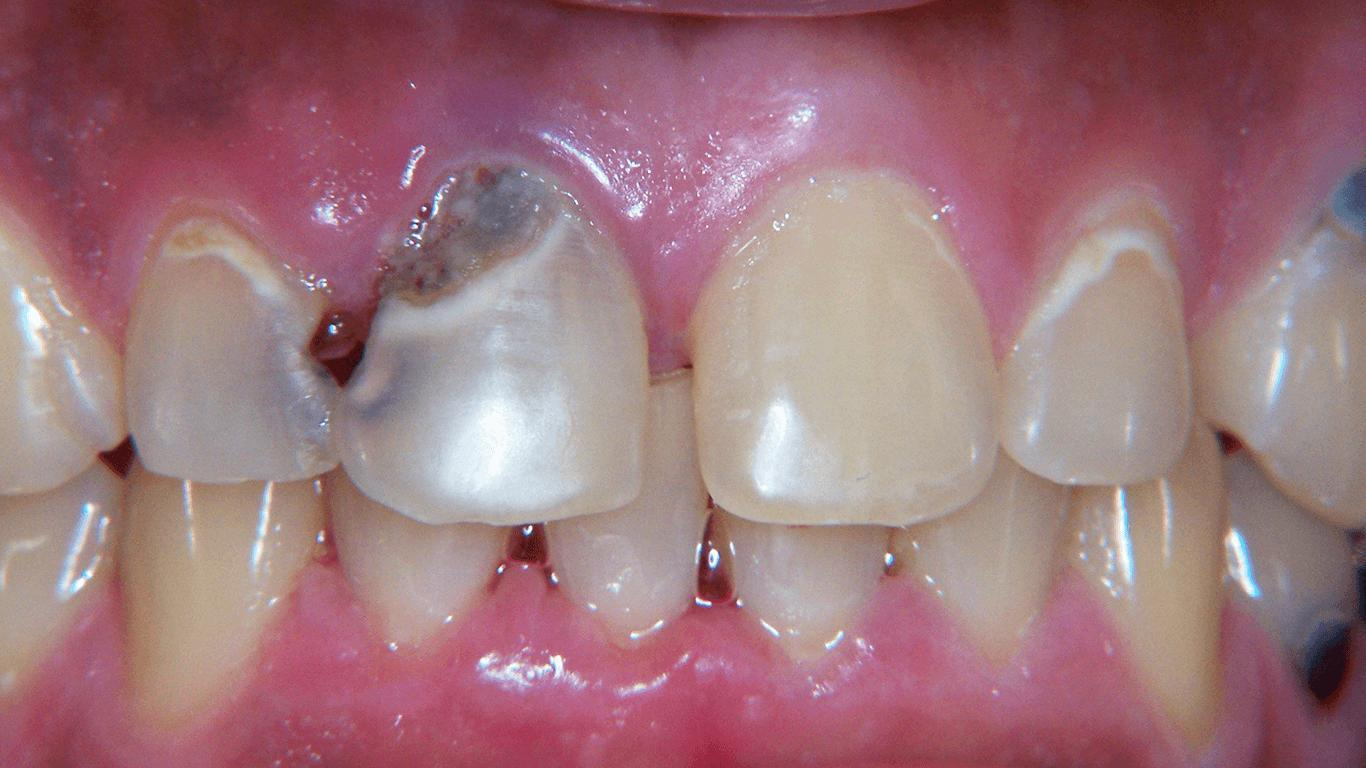cavity: (654, 135, 1013, 537), (317, 128, 663, 531), (1167, 134, 1366, 548), (126, 177, 360, 525), (996, 165, 1210, 505), (106, 436, 329, 755), (1058, 389, 1237, 768), (876, 430, 1080, 690), (551, 353, 722, 660), (1206, 400, 1357, 743), (0, 152, 145, 507), (706, 450, 887, 695), (0, 437, 151, 720), (312, 447, 492, 669)
